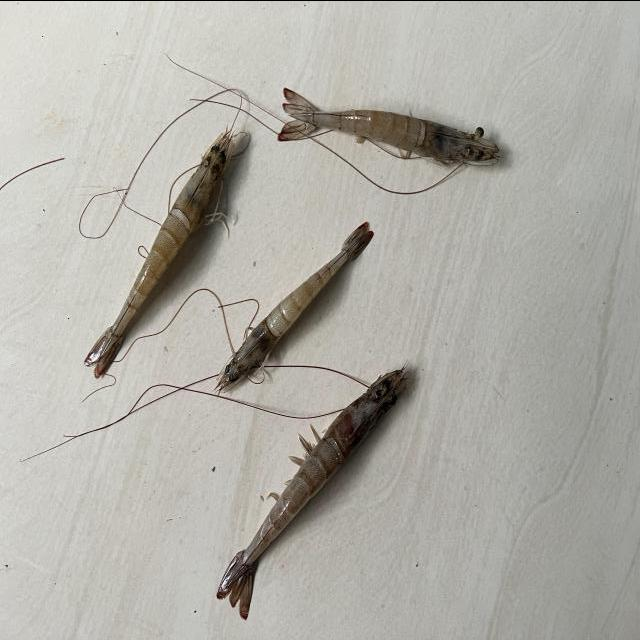shrimp: (216, 369, 407, 620), (84, 130, 234, 378), (216, 221, 373, 391), (278, 87, 500, 164)
